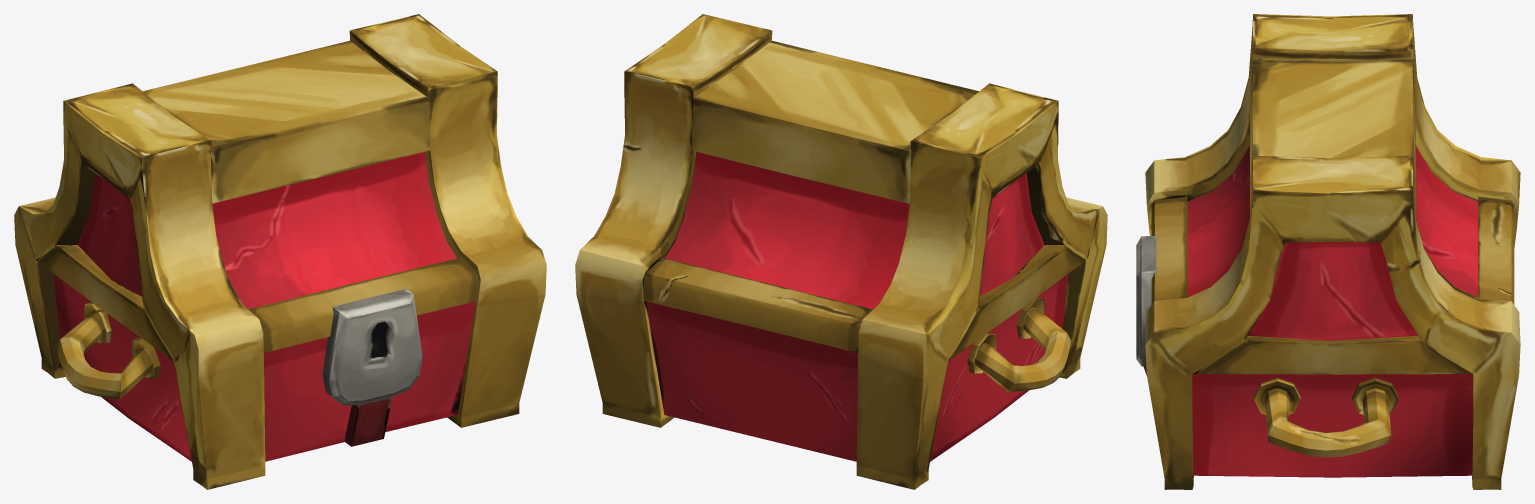
Rendered from CHEST_IRENE-MARCUELLO_PROP.fbx.
The picture shows the model from 3 angles, left to right: view 1: azimuth 30°, elevation 25°; view 2: azimuth 150°, elevation 25°; view 3: azimuth 270°, elevation 25°; orthographic projection.
Visible parts, largest first — view 1: P2_ RED-CHEST _PROP; view 2: P2_ RED-CHEST _PROP; view 3: P2_ RED-CHEST _PROP.
Part boxes in pixels (<box>): P2_ RED-CHEST _PROP: <box>14,14,546,489</box>; P2_ RED-CHEST _PROP: <box>575,14,1107,489</box>; P2_ RED-CHEST _PROP: <box>1136,14,1520,489</box>.
Size of the model in its own units: 172 by 118 by 132.
1 material, 1 textured.
